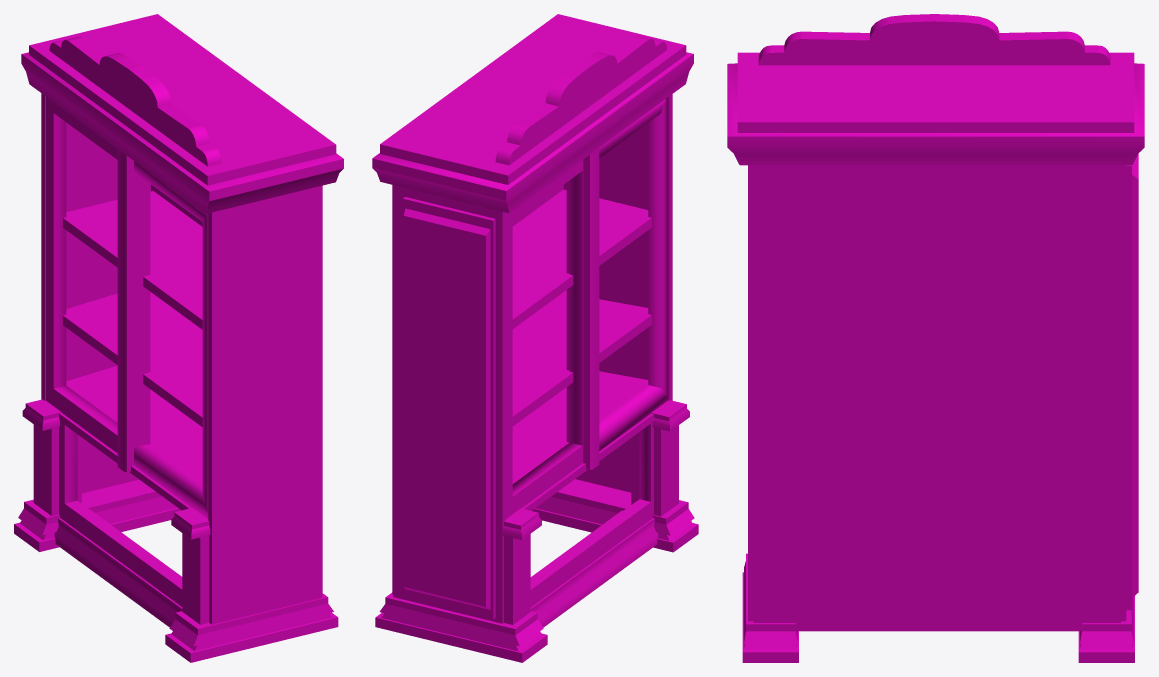
Rendered from Wardrobe_01.fbx.
The picture shows the model from 3 angles, left to right: view 1: azimuth 30°, elevation 25°; view 2: azimuth 150°, elevation 25°; view 3: azimuth 270°, elevation 25°; orthographic projection. The views are drawn at different scales.
Visible parts, largest first — view 1: Wardrobe_01; view 2: Wardrobe_01; view 3: Wardrobe_01.
Boxes of the visible parts, x1,y1,x2,y2 form: Wardrobe_01: (14,14,343,662); Wardrobe_01: (372,14,698,662); Wardrobe_01: (727,14,1144,662).
Bounding box in the file's own units: 75.76 × 257 × 167.
